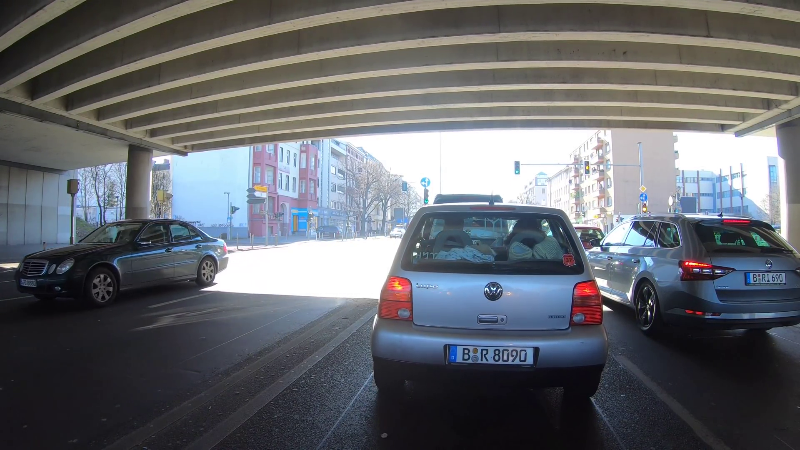Plate: (447, 344, 537, 367), (743, 268, 788, 286), (17, 277, 38, 288)
